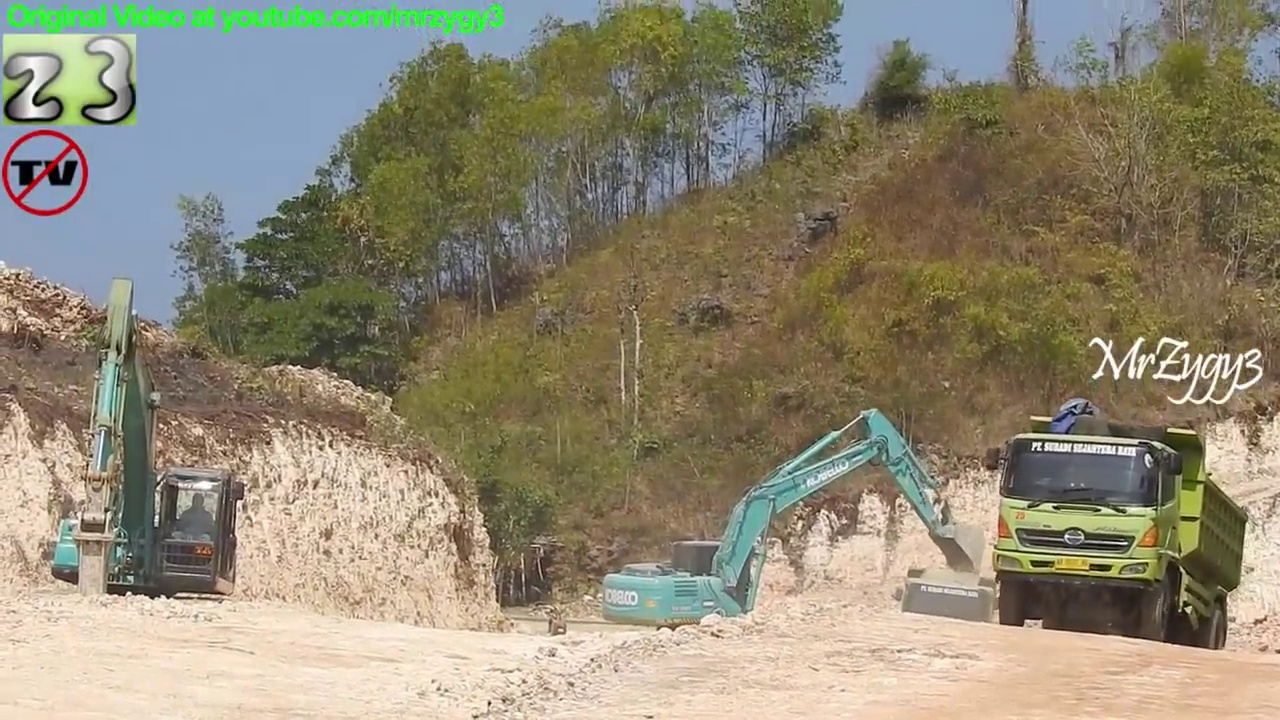excavator: (596, 399, 991, 664), (46, 274, 253, 640)
truck: (981, 409, 1254, 659), (889, 559, 1006, 672)
